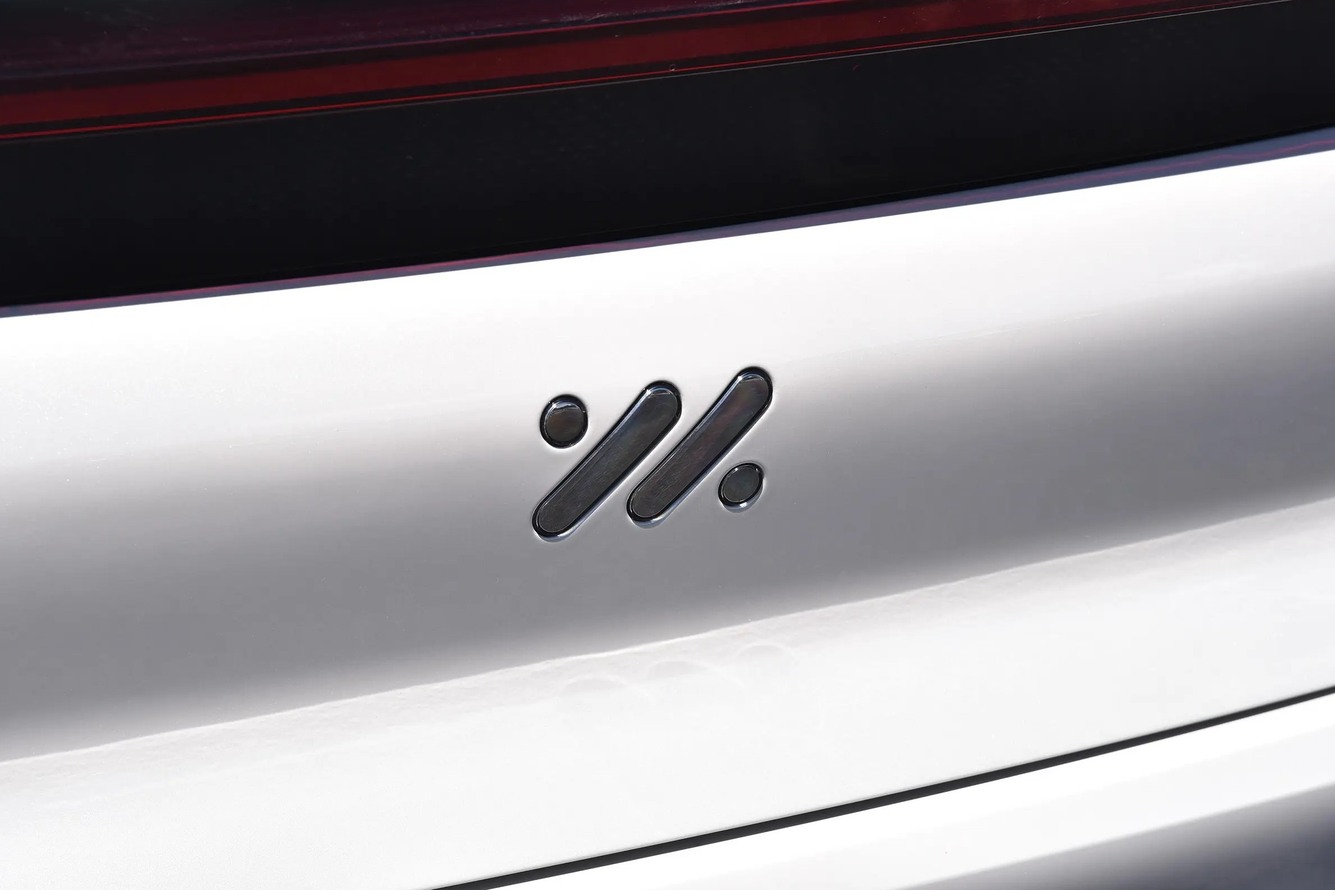IM: (534, 368, 772, 540)
